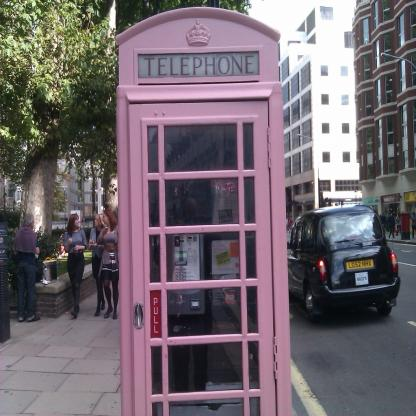Car: (289, 208, 401, 324)
